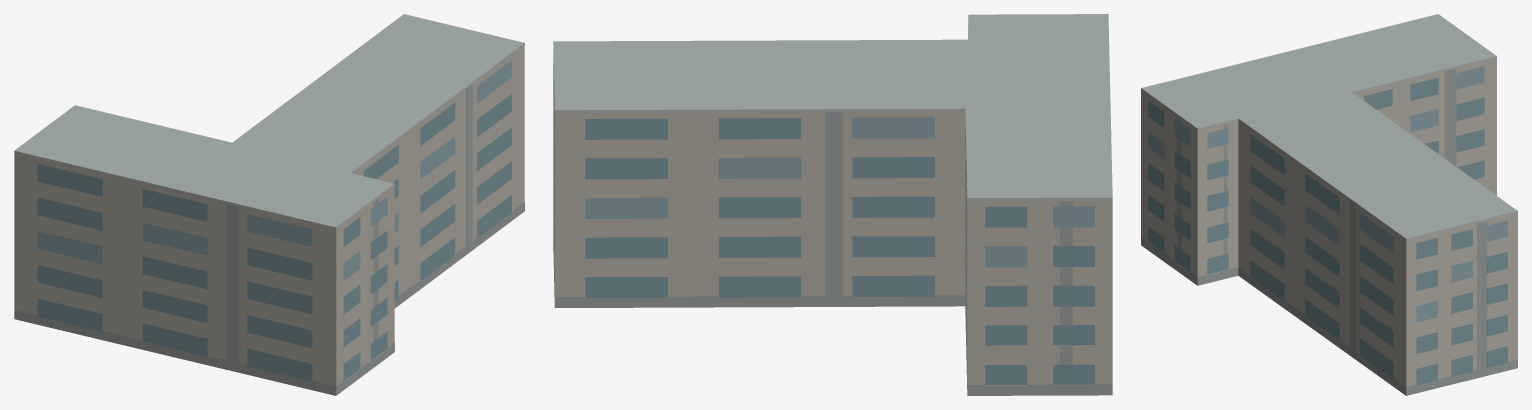
Rendered from residential-7d384fa5-86e3-4a17-9cf6-ce3b551d0460.glb.
3 views of the same model, side by side, from view 1: azimuth 30°, elevation 25°; view 2: azimuth 150°, elevation 25°; view 3: azimuth 270°, elevation 25° (orthographic). The views are drawn at different scales.
Visible parts, largest first — view 1: residential-7d384fa5-86e3-4a17-9cf6-ce3b551d0460.tmp; view 2: residential-7d384fa5-86e3-4a17-9cf6-ce3b551d0460.tmp; view 3: residential-7d384fa5-86e3-4a17-9cf6-ce3b551d0460.tmp.
Boxes of the visible parts, x1=… form: residential-7d384fa5-86e3-4a17-9cf6-ce3b551d0460.tmp: x1=14, y1=14, x2=524, y2=395; residential-7d384fa5-86e3-4a17-9cf6-ce3b551d0460.tmp: x1=553, y1=14, x2=1112, y2=395; residential-7d384fa5-86e3-4a17-9cf6-ce3b551d0460.tmp: x1=1141, y1=14, x2=1517, y2=395.
Bounding box in the file's own units: 46.76 × 15.25 × 33.13.
